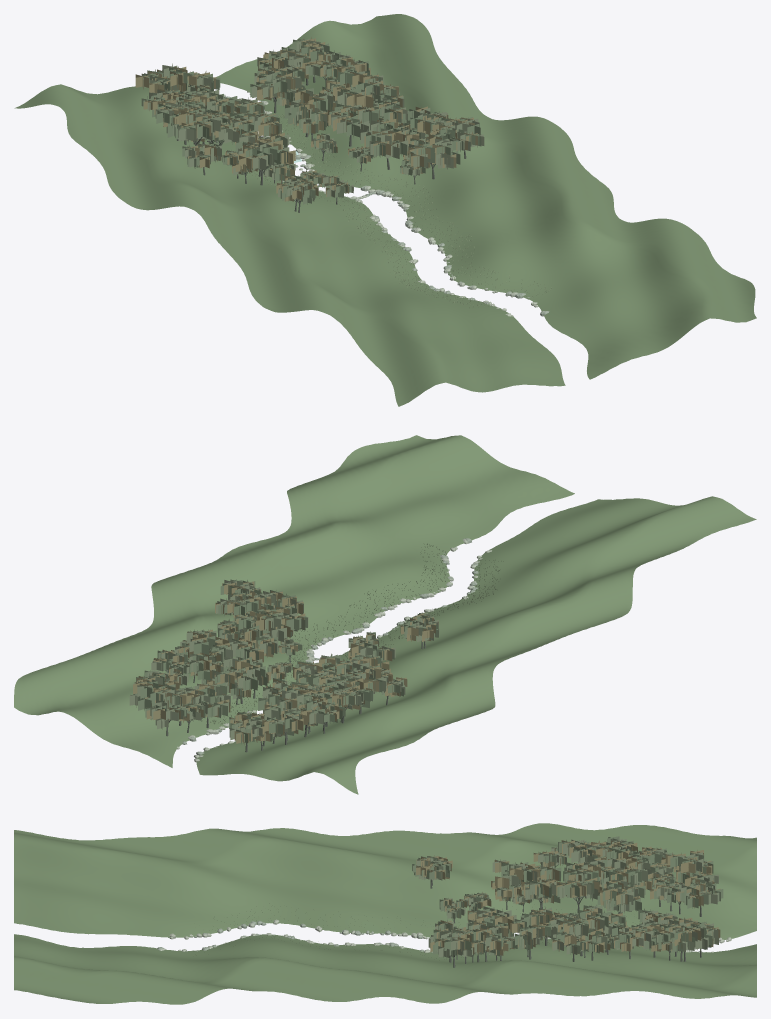
The model's file is nine-creeks.glb.
3 views of the same model, one above another, from view 1: azimuth 30°, elevation 25°; view 2: azimuth 150°, elevation 25°; view 3: azimuth 270°, elevation 25° (orthographic). The views are drawn at different scales.
Visible parts, largest first — view 1: earth, crown0, crown1, crown2, leaf1, stone, stone2, bark; view 2: earth, crown0, crown1, crown2, stone, leaf1, stone2; view 3: earth, crown0, crown1, crown2, stone, bark, stone2.
Part boxes in pixels (bbox=[...]): earth: bbox=[14, 14, 756, 406]; crown0: bbox=[141, 39, 481, 204]; crown1: bbox=[141, 37, 484, 201]; crown2: bbox=[135, 37, 477, 201]; leaf1: bbox=[223, 114, 551, 307]; stone: bbox=[224, 91, 548, 316]; stone2: bbox=[224, 96, 548, 316]; bark: bbox=[163, 76, 466, 212]; earth: bbox=[14, 435, 756, 794]; crown0: bbox=[136, 579, 439, 744]; crown1: bbox=[129, 579, 438, 741]; crown2: bbox=[133, 581, 438, 744]; stone: bbox=[177, 538, 491, 762]; leaf1: bbox=[201, 543, 503, 723]; stone2: bbox=[182, 538, 478, 755]; earth: bbox=[14, 823, 756, 1004]; crown0: bbox=[412, 836, 723, 958]; crown1: bbox=[416, 837, 719, 957]; crown2: bbox=[416, 840, 720, 955]; stone: bbox=[160, 919, 731, 952]; bark: bbox=[430, 865, 701, 967]; stone2: bbox=[157, 921, 701, 952].
Size of the model in its own units: 115 by 16.49 by 200.
